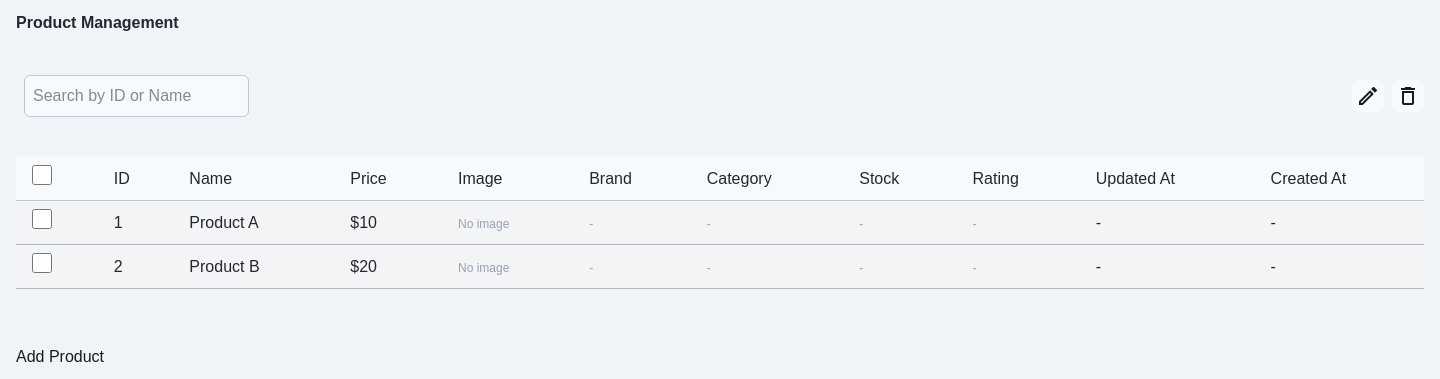
it: ProductTable › shows alert if trying to edit with nothing selected
Click the button titled "edit selected product".
click(1368, 96)  # box [1352,80,1384,112]
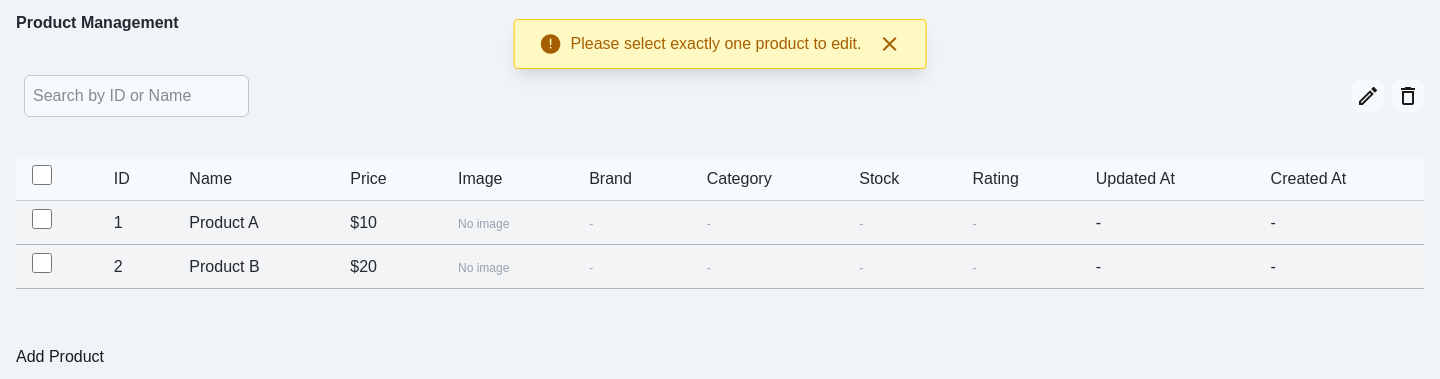
Expected: the text "Please select exactly one product to edit." is shown, [571,32,861,56]
